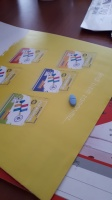Majezik: (68, 94, 77, 108)
